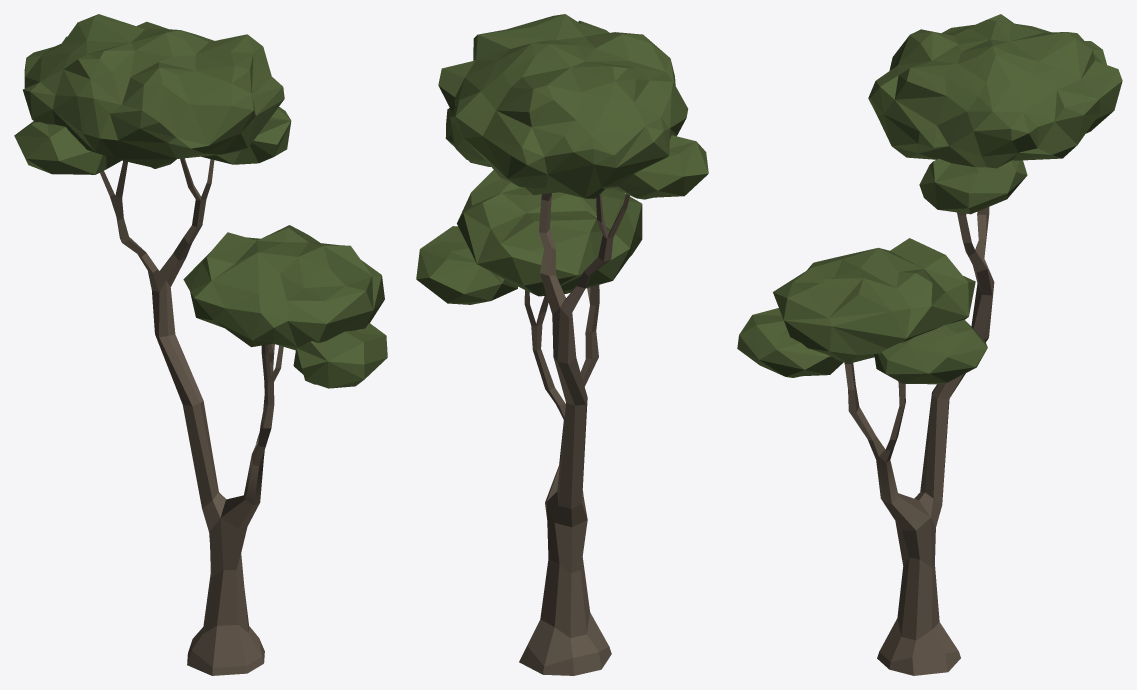
Rendered from Tree_088.fbx.
3 renders of one model, left to right at view 1: azimuth 30°, elevation 25°; view 2: azimuth 150°, elevation 25°; view 3: azimuth 270°, elevation 25°, orthographic. The views are drawn at different scales.
Parts seen in each view (by area): view 1: tree_088; view 2: tree_088; view 3: tree_088.
Boxes of the visible parts, <box> form: tree_088: <box>14,14,387,675</box>; tree_088: <box>416,14,708,675</box>; tree_088: <box>737,14,1122,675</box>.
Bounding box in the file's own units: 0.5463 × 1.07 × 0.6239.
1 material, 1 textured.
